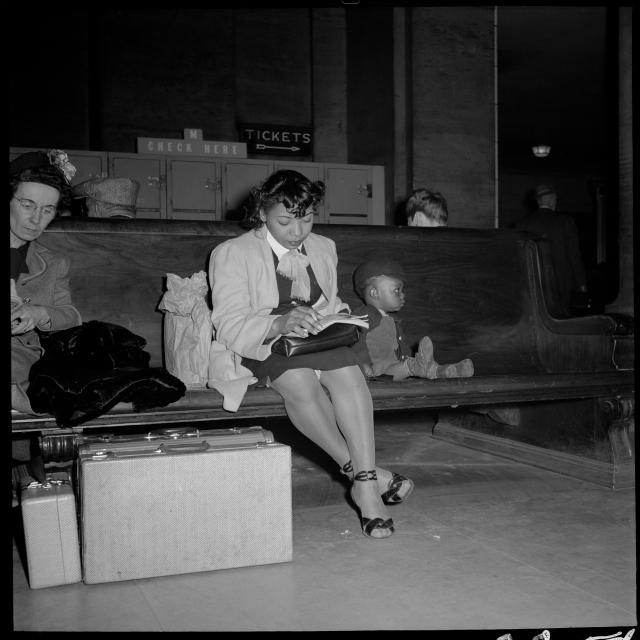body: (205, 166, 416, 542), (10, 149, 84, 414), (345, 256, 476, 382), (64, 170, 139, 223), (403, 187, 450, 228)
